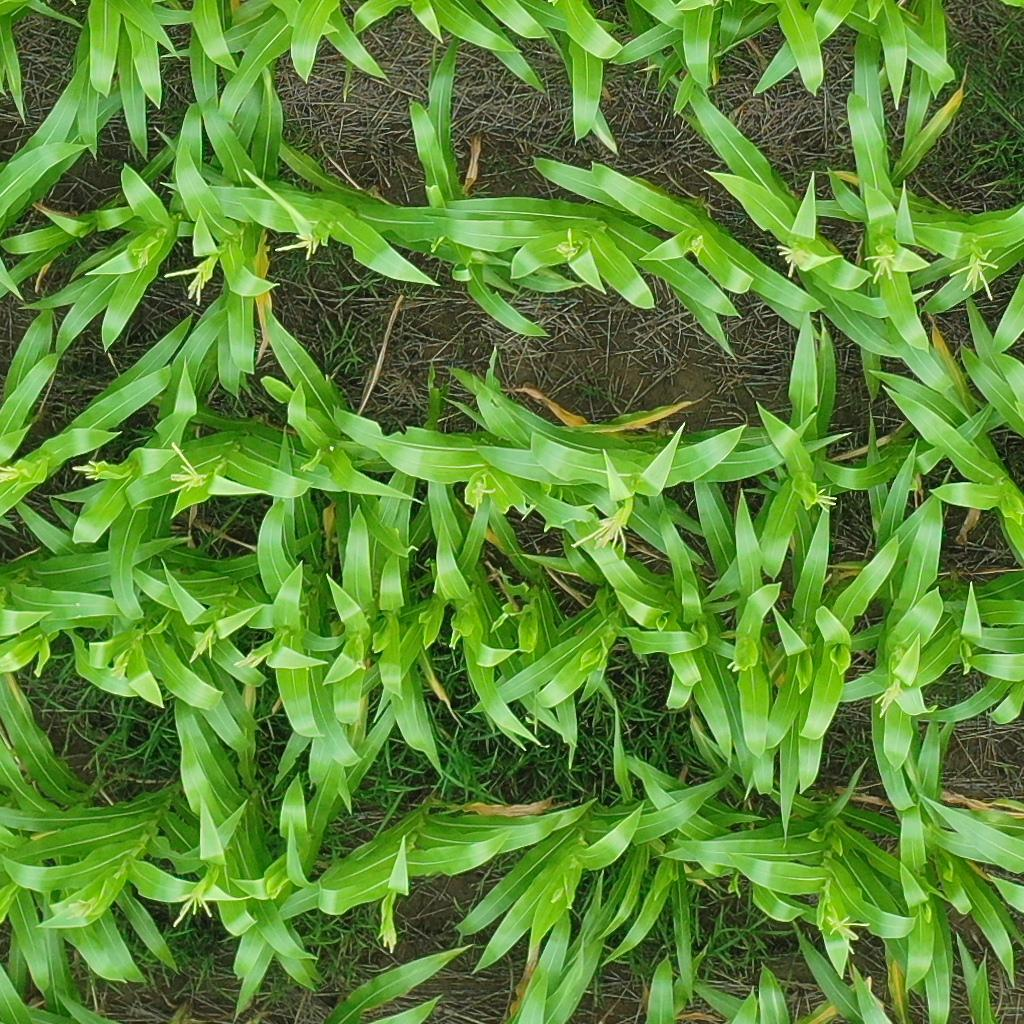Tassel: (570, 515, 632, 554), (949, 257, 999, 302), (168, 439, 208, 495), (162, 265, 212, 306), (826, 912, 870, 955), (170, 891, 217, 929), (862, 247, 897, 287), (273, 235, 327, 259), (876, 677, 903, 718), (471, 471, 499, 508), (776, 245, 808, 276), (187, 630, 215, 664), (556, 229, 578, 263), (815, 486, 839, 516), (66, 898, 93, 924), (69, 460, 101, 481), (233, 651, 268, 669), (381, 929, 399, 955), (108, 661, 130, 682), (549, 886, 569, 909), (131, 248, 149, 268), (1, 467, 21, 485), (727, 659, 743, 675), (689, 235, 703, 248)
